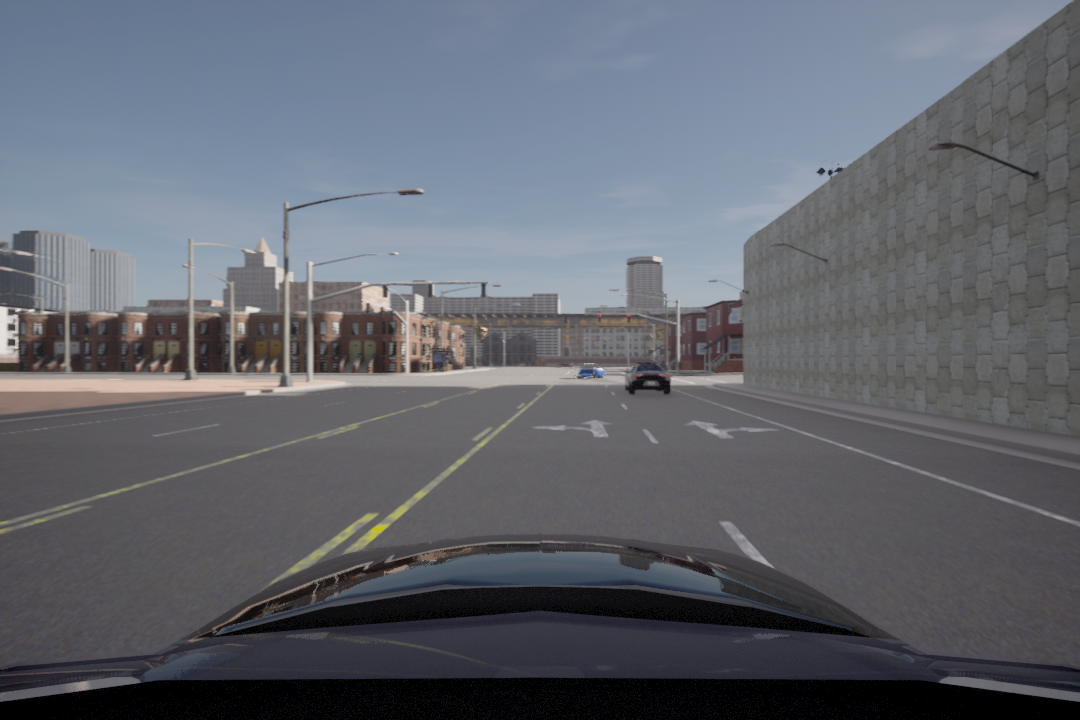RoadSign_forward_left: (531, 419, 618, 446)
RoadSign_forward_right: (681, 415, 781, 440)
